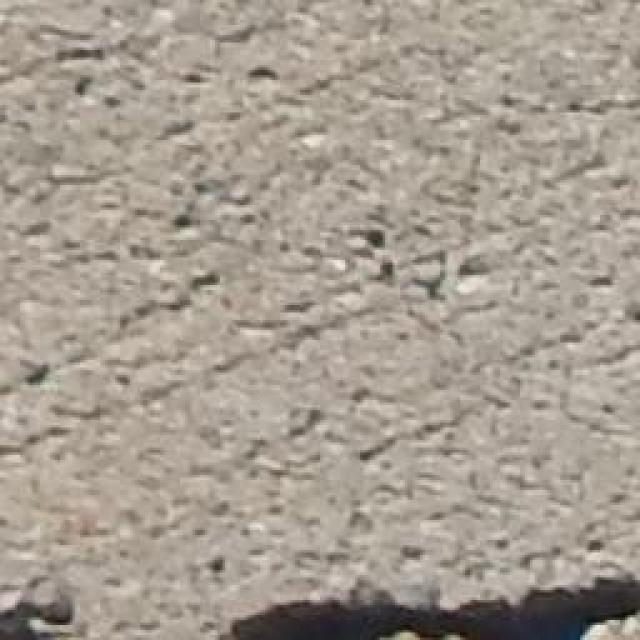concrete-crack: (223, 565, 639, 640), (0, 588, 77, 640)
